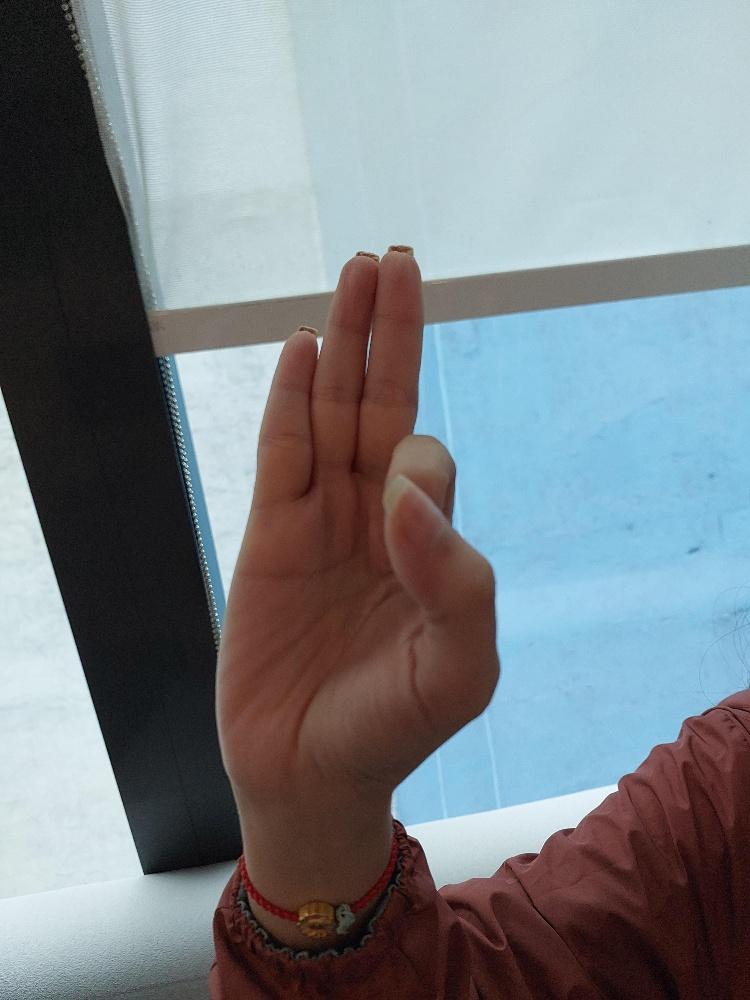f: (209, 241, 504, 796)
